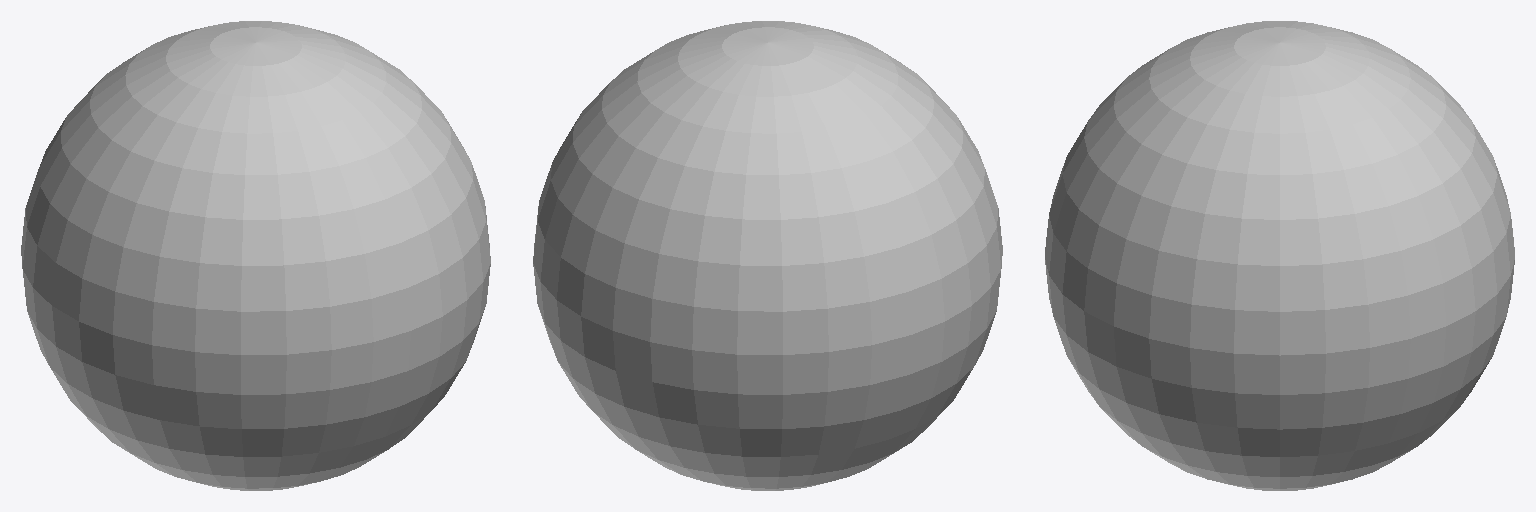
File: bullet.obj
3 renders of one model, left to right at view 1: azimuth 30°, elevation 25°; view 2: azimuth 150°, elevation 25°; view 3: azimuth 270°, elevation 25°, orthographic.
Visible parts, largest first — view 1: Sphere; view 2: Sphere; view 3: Sphere.
Boxes of the visible parts, <box> form: Sphere: <box>21,21,490,490</box>; Sphere: <box>533,21,1002,490</box>; Sphere: <box>1045,21,1514,490</box>.
Bounding box in the file's own units: 0.6 × 0.6 × 0.6.